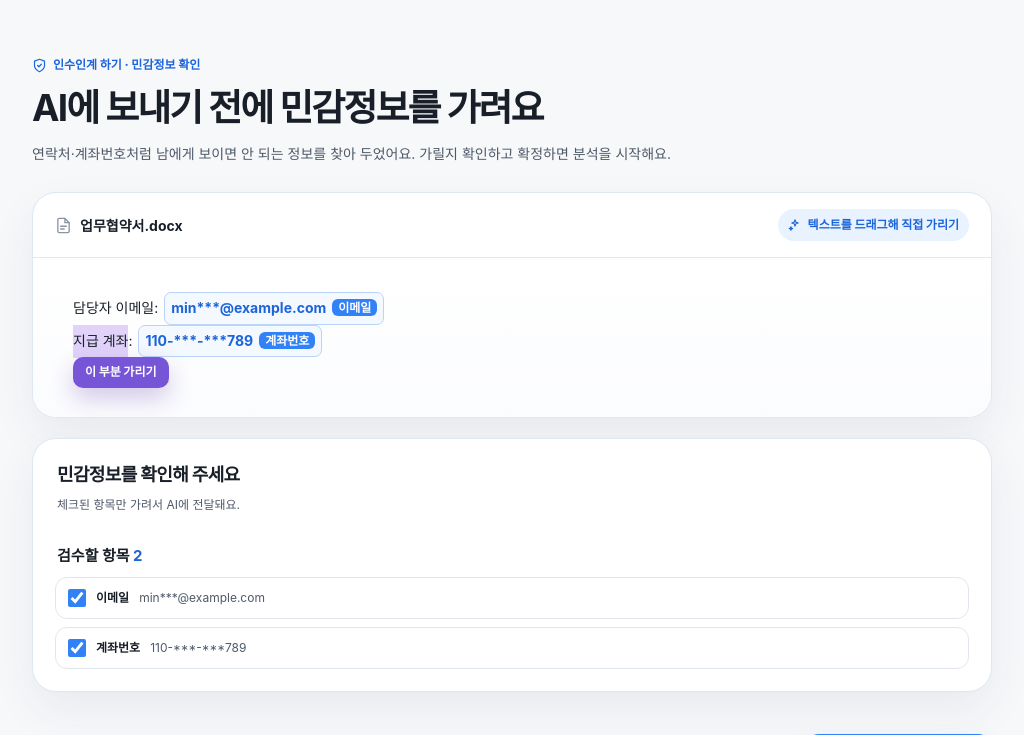
Test case: MaskingStep › masks a dragged range and removes it again
The width and height of the screenshot is (1024, 735).
Click the button "이 부분 가리기". click: (121, 372)
box: left=73, top=357, right=168, bottom=388
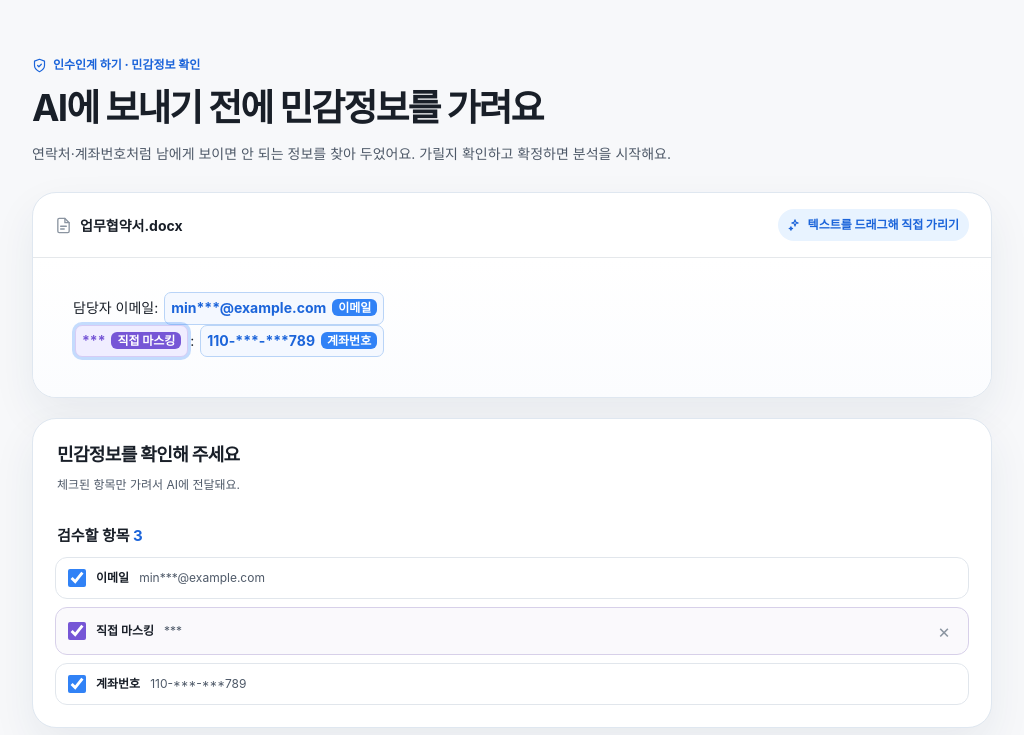
Check: the button "이 부분 가리기" is gone
Click the button named "직접 추가한 *** 삭제". click: (944, 631)
box: left=932, top=619, right=956, bottom=643
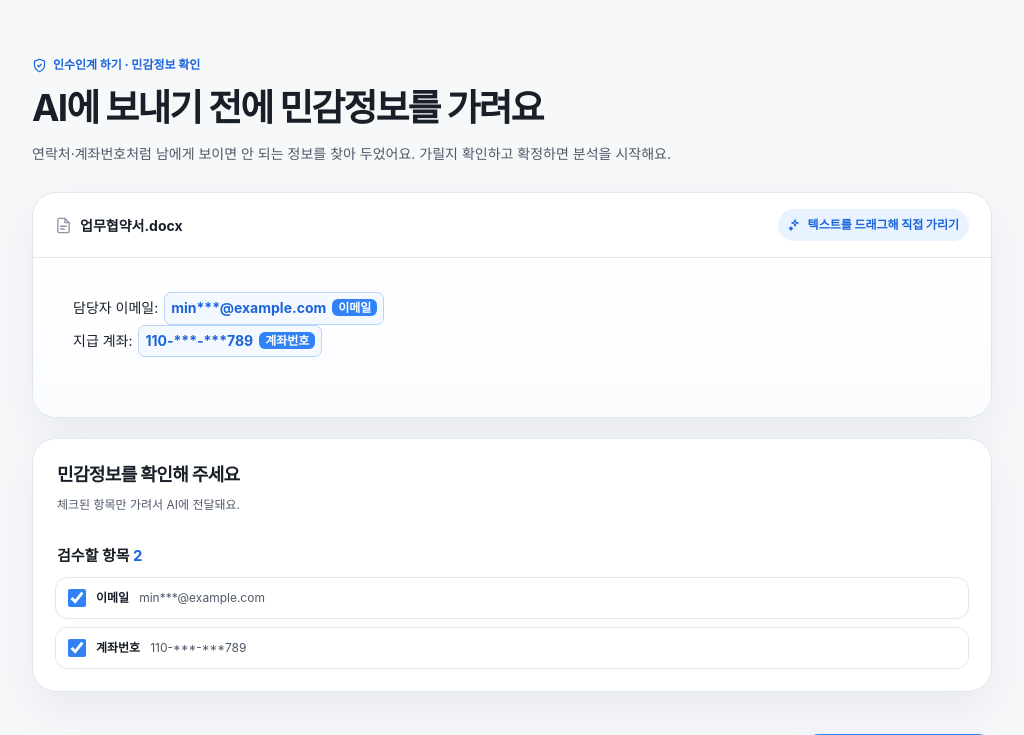
Check: the button "직접 추가한 *** 삭제" is gone
